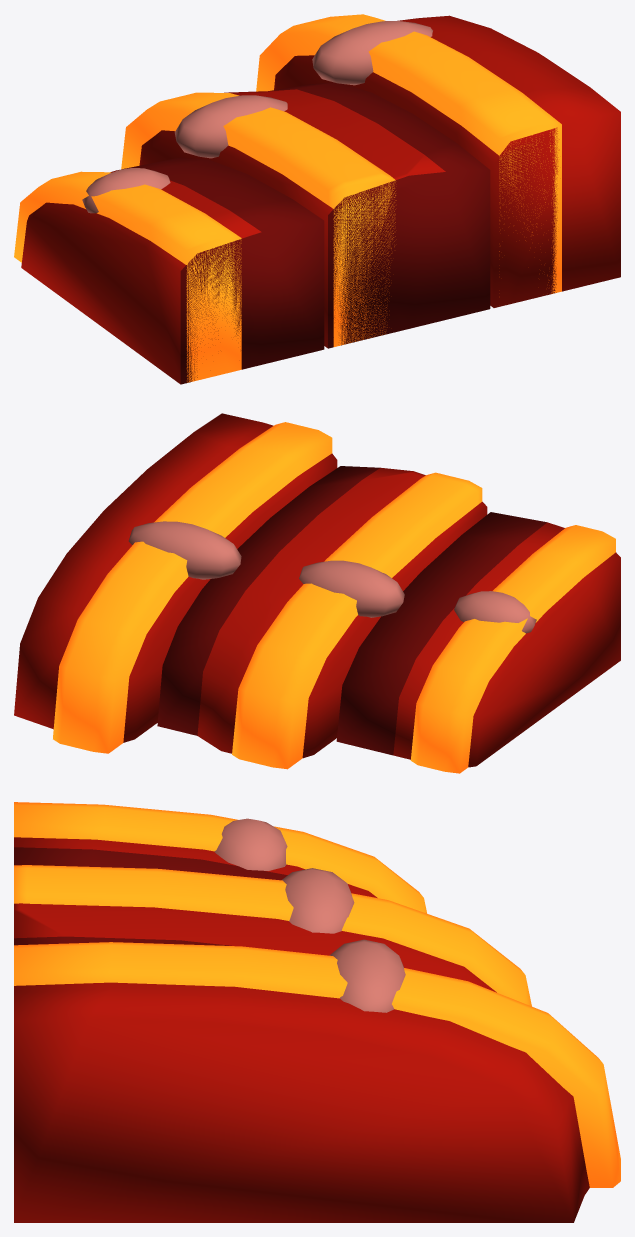
File: newshe-87.glb
The picture shows the model from 3 angles, top to bottom: view 1: azimuth 30°, elevation 25°; view 2: azimuth 150°, elevation 25°; view 3: azimuth 270°, elevation 25°; orthographic projection. The views are drawn at different scales.
Parts seen in each view (by area): view 1: newshe-87; view 2: newshe-87; view 3: newshe-87.
Part boxes in pixels (x1,y1,x2,y2): newshe-87: [14, 14, 620, 384]; newshe-87: [14, 413, 620, 773]; newshe-87: [14, 802, 620, 1222].
Bounding box in the file's own units: 1.99 × 0.759 × 1.95.
